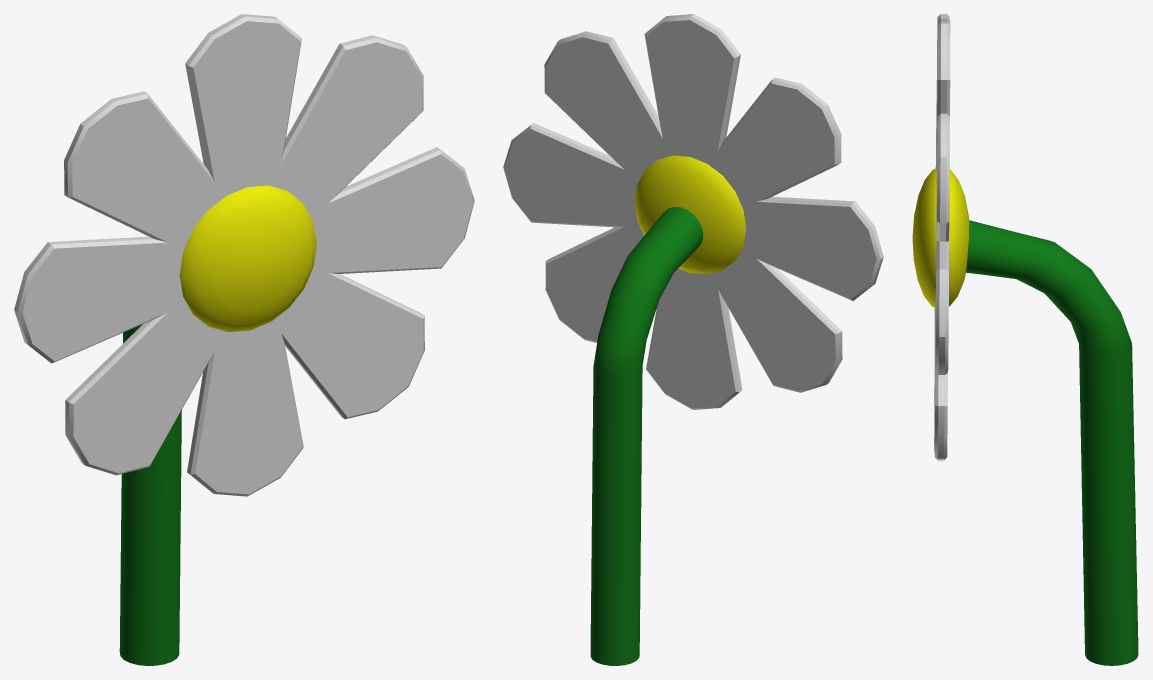
Rendered from flower2.fbx.
3 renders of one model, left to right at view 1: azimuth 30°, elevation 25°; view 2: azimuth 150°, elevation 25°; view 3: azimuth 270°, elevation 25°, orthographic. The views are drawn at different scales.
Visible parts, largest first — view 1: pCube4; view 2: pCube4; view 3: pCube4.
Part boxes in pixels (left/top/right/bottom): pCube4: left=14, top=14, right=474, bottom=665; pCube4: left=503, top=14, right=883, bottom=665; pCube4: left=912, top=14, right=1138, bottom=665.
Size of the model in its own units: 4.03 by 5.96 by 1.93.
